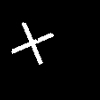single_crochet: (12, 23, 53, 63)
